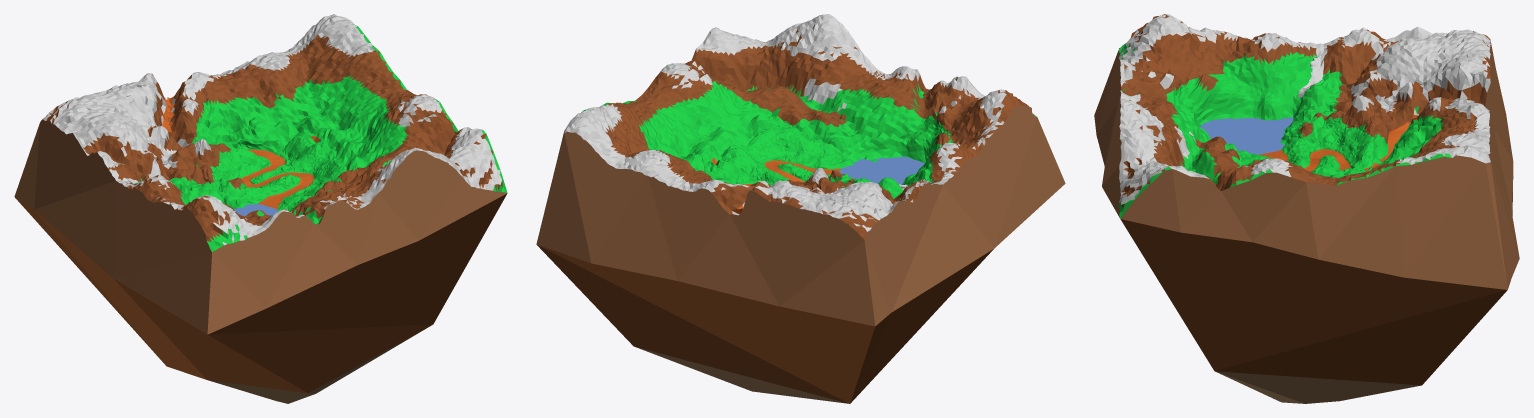
The model's file is Level 1 mini.fbx.
The picture shows the model from 3 angles, left to right: view 1: azimuth 30°, elevation 25°; view 2: azimuth 150°, elevation 25°; view 3: azimuth 270°, elevation 25°; orthographic projection. The views are drawn at different scales.
Visible parts, largest first — view 1: Plane.001, terrain, Plane; view 2: Plane.001, terrain, water, Plane; view 3: Plane.001, terrain, water, Plane.
Boxes of the visible parts, box(x1,y1,x2,y2) form: Plane.001: box(14, 14, 507, 403); terrain: box(194, 135, 347, 210); Plane: box(241, 149, 314, 209); Plane.001: box(536, 14, 1065, 403); terrain: box(713, 121, 857, 187); water: box(839, 156, 924, 184); Plane: box(742, 160, 840, 186); Plane.001: box(1094, 14, 1519, 403); terrain: box(1237, 95, 1376, 173); water: box(1200, 117, 1293, 154); Plane: box(1258, 121, 1410, 171).
Size of the model in its own units: 15181 by 12438 by 14785.
